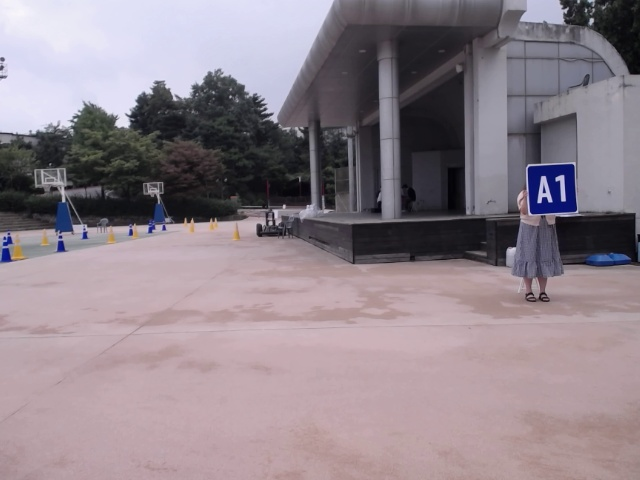delivery_a1: (526, 163, 579, 215)
